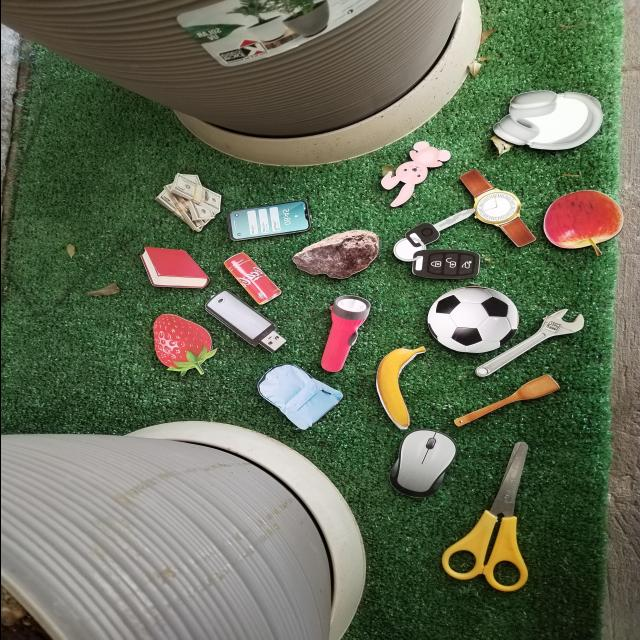Other Objects: (440, 441, 529, 592), (242, 356, 345, 432), (386, 208, 486, 285), (473, 308, 584, 377), (456, 163, 537, 254), (491, 89, 604, 151), (378, 424, 463, 502), (199, 287, 292, 357), (427, 286, 518, 353), (302, 291, 375, 374), (452, 374, 559, 427), (542, 189, 623, 256), (365, 342, 426, 430), (378, 140, 451, 207), (290, 229, 379, 279), (153, 173, 221, 232), (220, 250, 283, 306), (226, 200, 310, 241)
